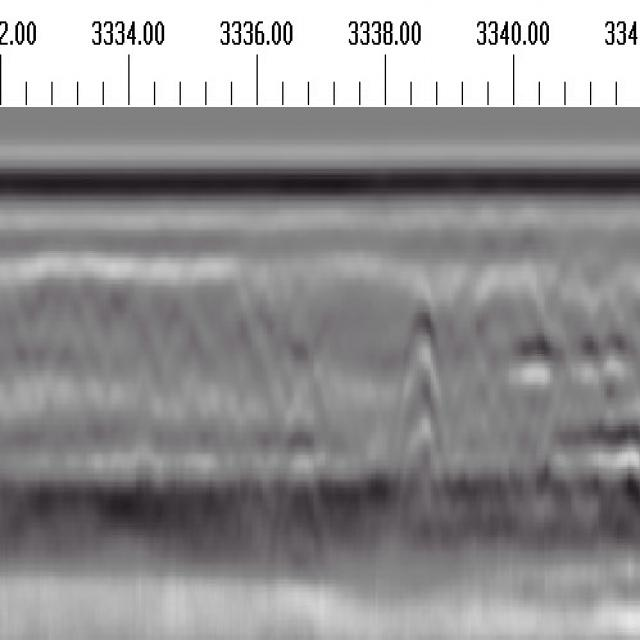loose: (392, 307, 640, 550)
